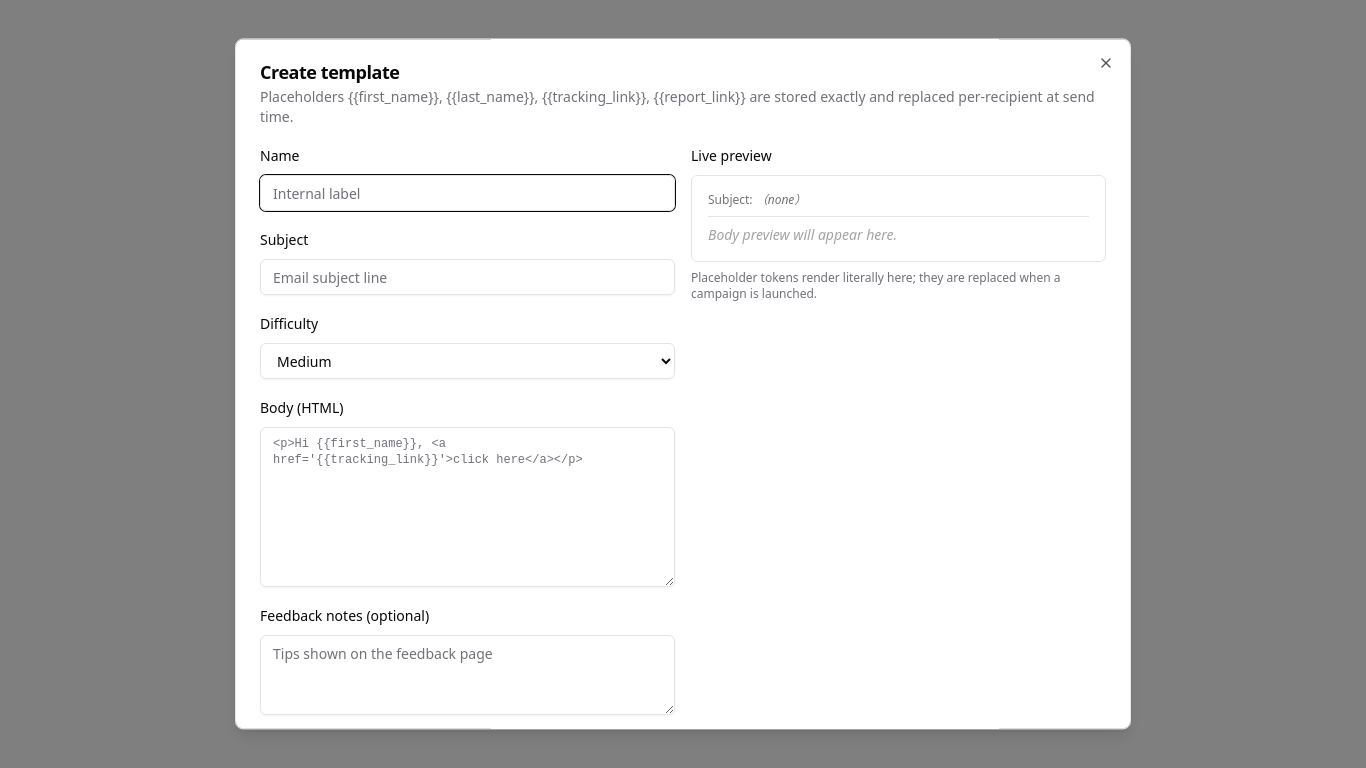
Test: TemplateFormDialog › renders an HTML preview of the entered body
The image size is (1366, 768).
In the text box labelled "Body (HTML)": (468, 507) [260, 427, 675, 587], type "<strong>URGENT</strong>"
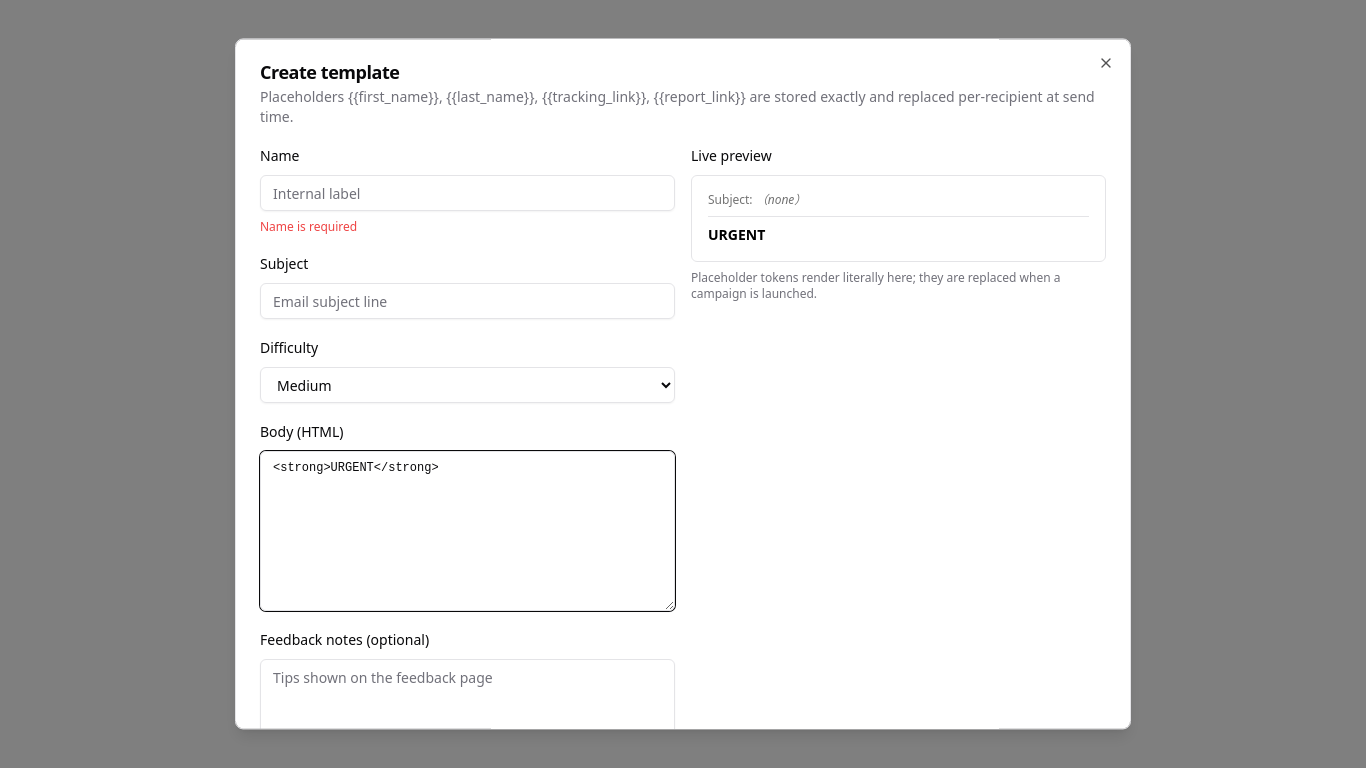
Now the text "URGENT" is shown, box [708, 225, 765, 244]
